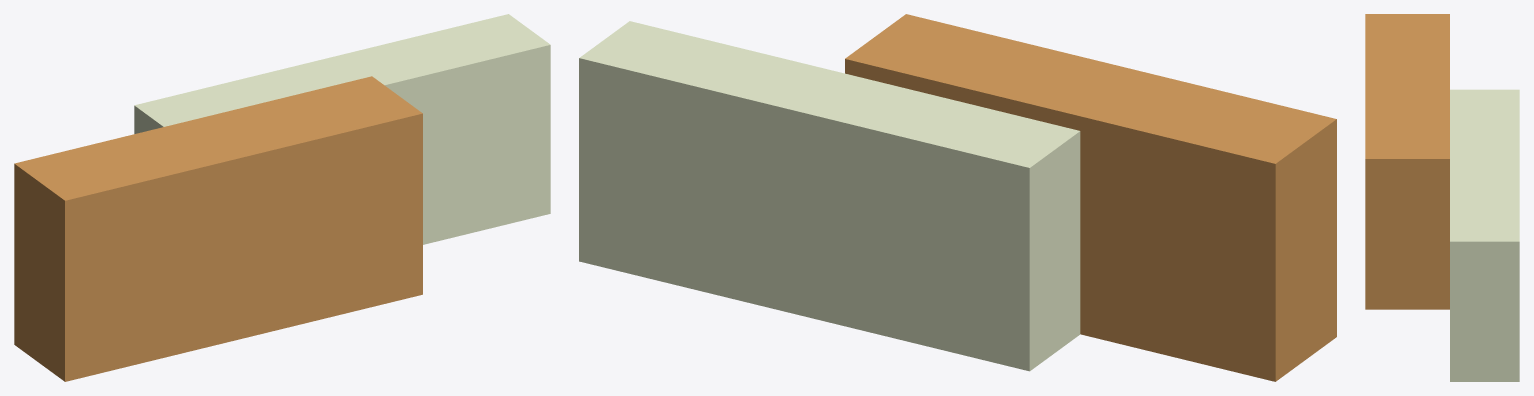
File: second.gltf
3 views of the same model, side by side, from view 1: azimuth 30°, elevation 25°; view 2: azimuth 150°, elevation 25°; view 3: azimuth 270°, elevation 25° (orthographic). The views are drawn at different scales.
Parts seen in each view (by area): view 1: Box001, Box002; view 2: Box002, Box001; view 3: Box001, Box002.
Part boxes in pixels (x1=…): Box001: x1=14, y1=76, x2=422, y2=381; Box002: x1=134, y1=14, x2=550, y2=244; Box002: x1=579, y1=21, x2=1080, y2=371; Box001: x1=845, y1=14, x2=1336, y2=381; Box001: x1=1365, y1=14, x2=1449, y2=309; Box002: x1=1450, y1=89, x2=1519, y2=381.
Size of the model in its own units: 0.083 by 0.0268 by 0.0249.
